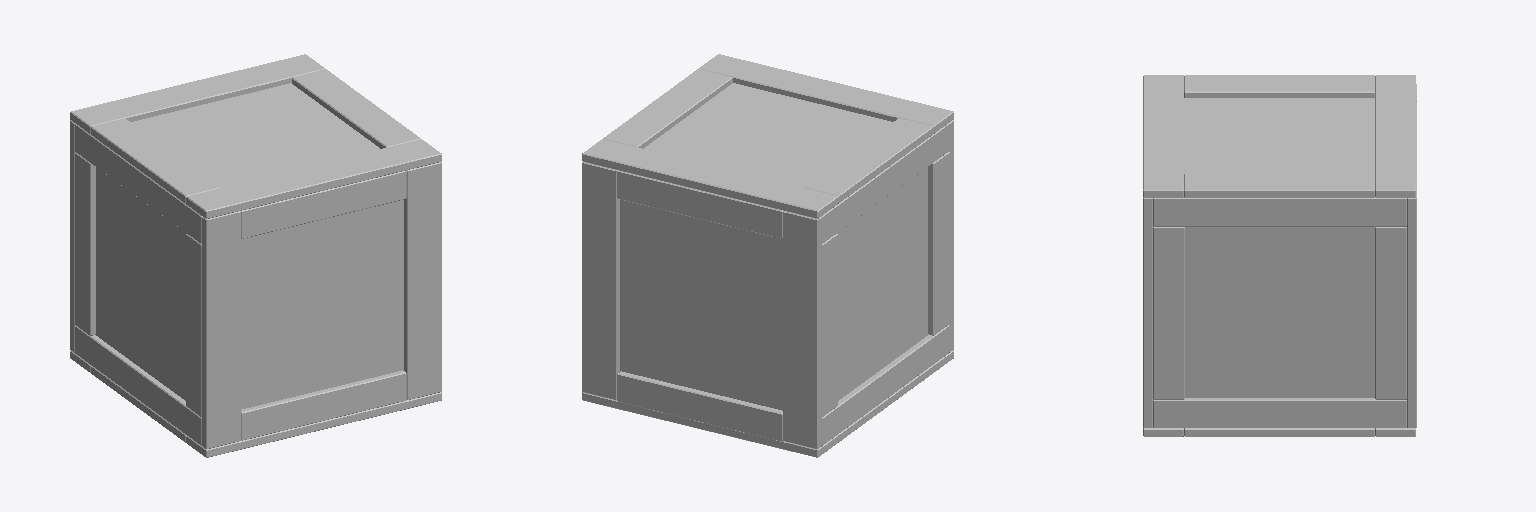
Rendered from crate hi.obj.
3 renders of one model, left to right at view 1: azimuth 30°, elevation 25°; view 2: azimuth 150°, elevation 25°; view 3: azimuth 270°, elevation 25°, orthographic.
Visible parts, largest first — view 1: pCube29; view 2: pCube29; view 3: pCube29.
Part boxes in pixels (bbox=[...]): pCube29: bbox=[70, 54, 441, 457]; pCube29: bbox=[582, 54, 953, 457]; pCube29: bbox=[1143, 75, 1416, 436].
Bounding box in the file's own units: 1 × 1 × 1.